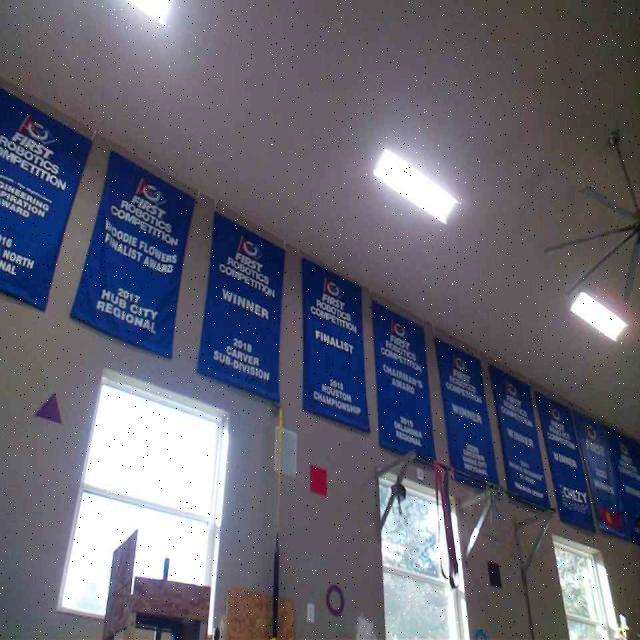ring_purple: (325, 582, 345, 614)
square_black: (485, 560, 502, 586)
square_red: (307, 462, 328, 496)
triangle_purple: (34, 391, 61, 423)
